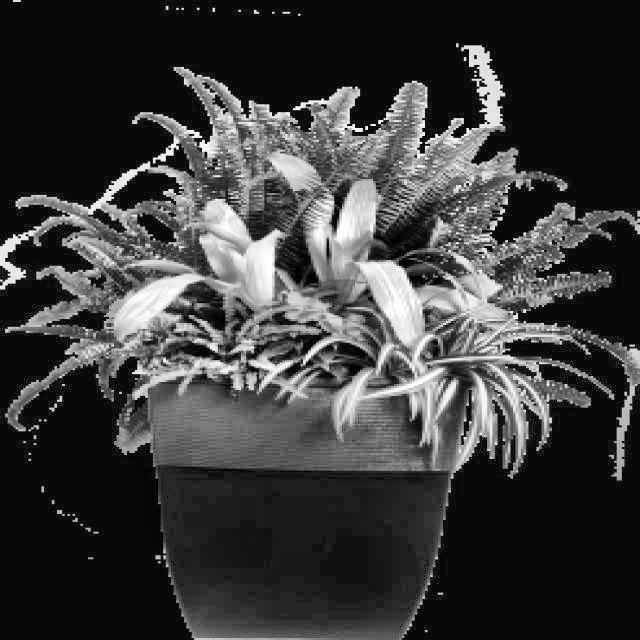plants: (64, 95, 566, 598)
